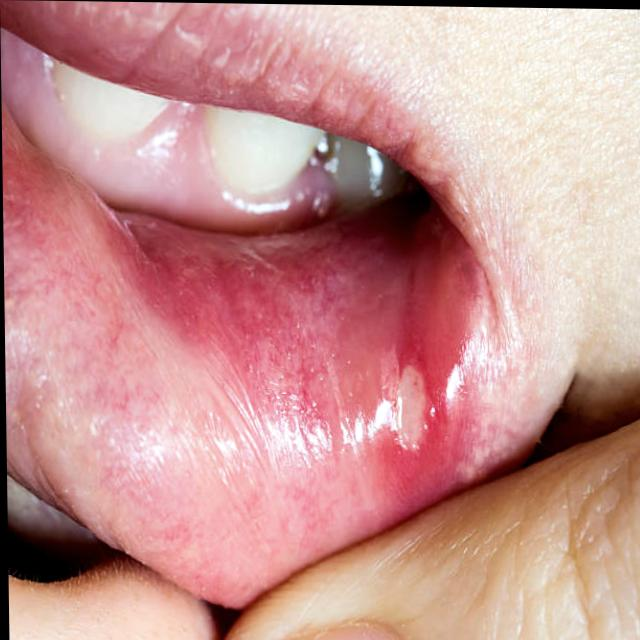ulcer: (399, 366, 427, 444)
